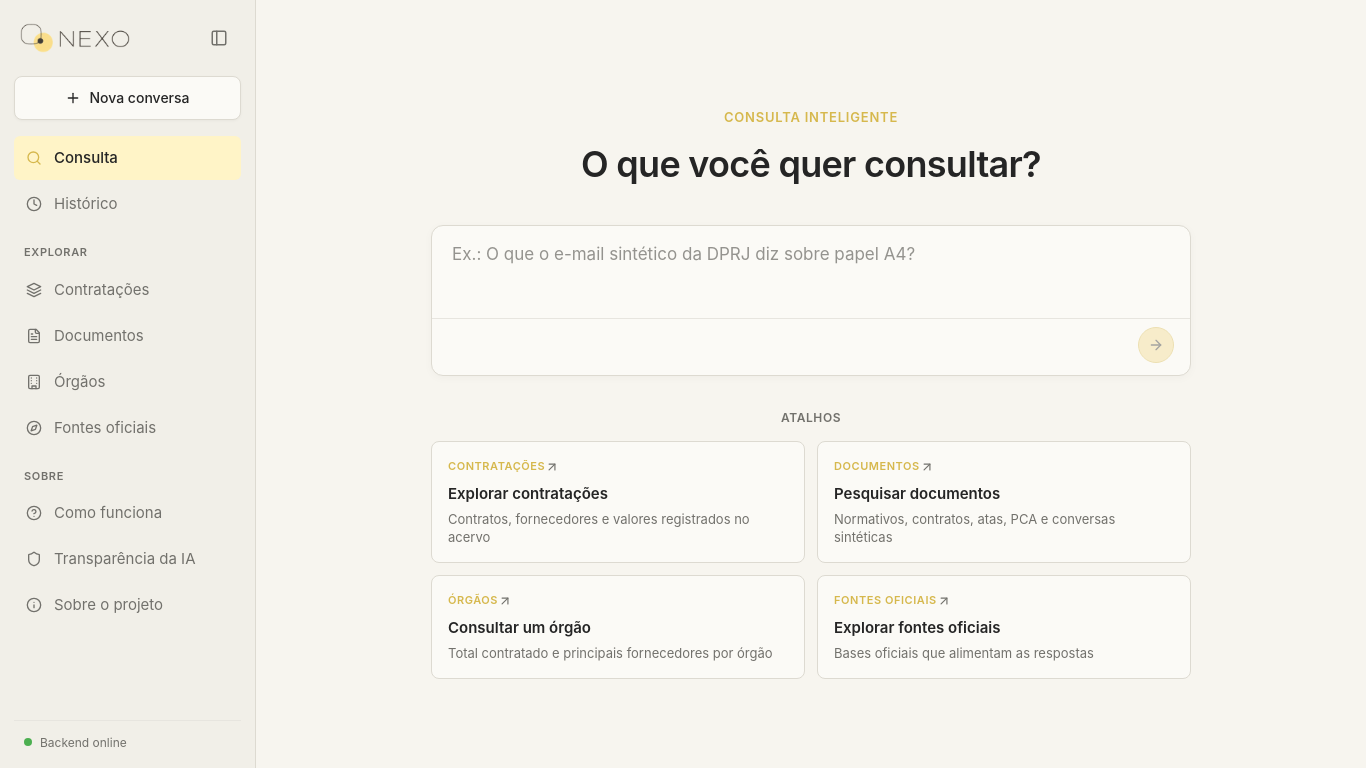
Scenario: Integração do chat com /api/v1/query › exibe a resposta e a fonte sintética recebidas da API
In the text box named "Pergunta sobre contratações públicas": (811, 272) [452,242,1170,302], type "O que diz o email da DPRJ?"
Then press Enter
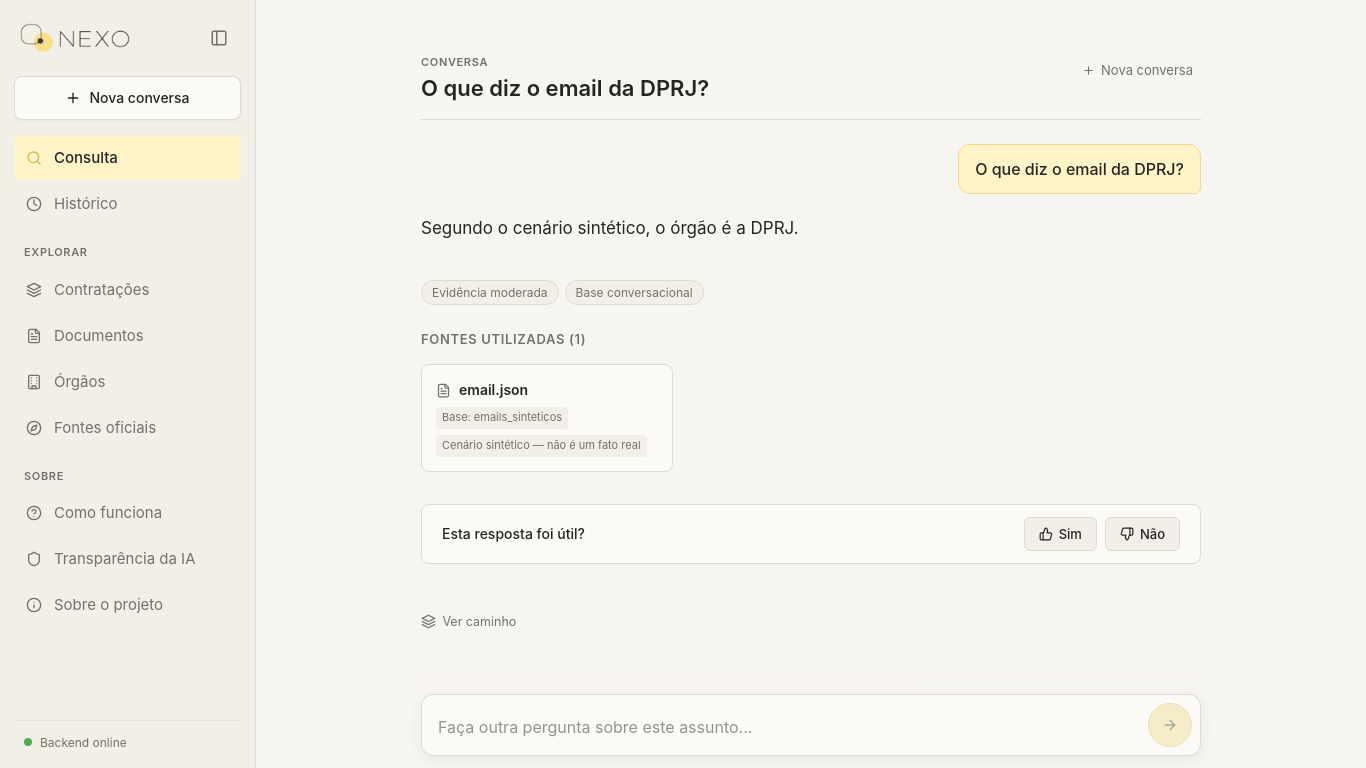
Expected: the text "Segundo o cenário sintético, o órgão é a DPRJ." is shown, [421,218,799,238]
Expected: the heading "Fontes utilizadas (1)" is shown, [421,331,586,347]
Expected: the text "Cenário sintético — não é um fato real" is shown, [436,435,647,457]
